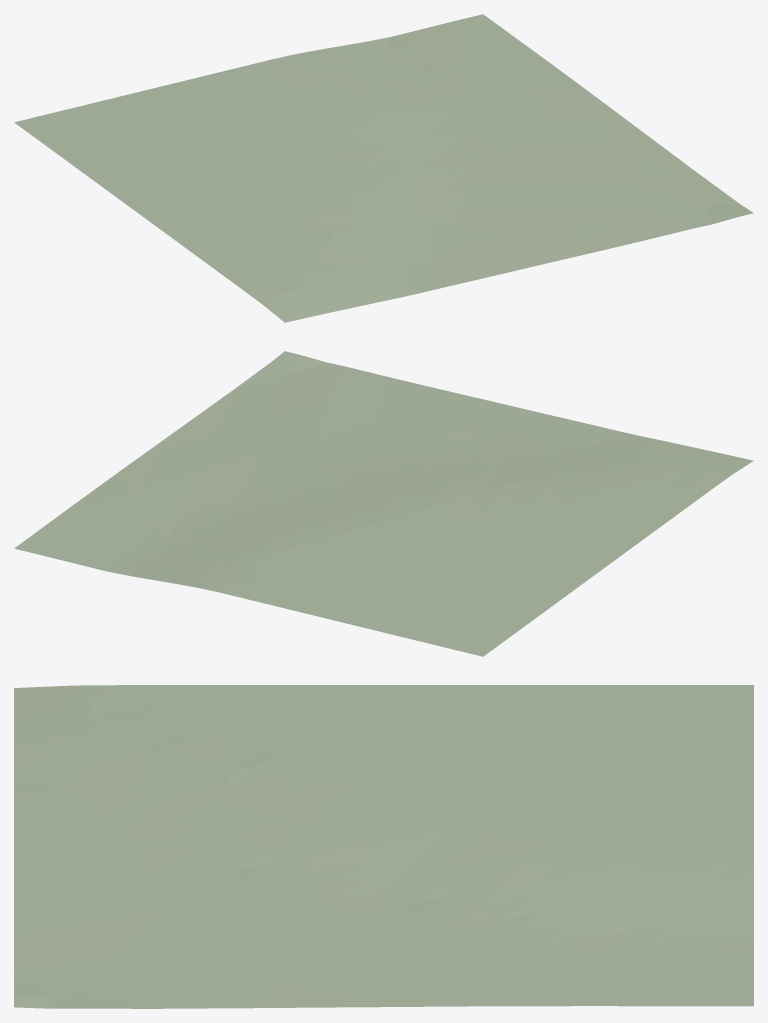
Rendered from SM_MPRR_Terrain_1_-1.fbx.
3 renders of one model, top to bottom at view 1: azimuth 30°, elevation 25°; view 2: azimuth 150°, elevation 25°; view 3: azimuth 270°, elevation 25°, orthographic. The views are drawn at different scales.
Visible parts, largest first — view 1: SM_MPRR_Terrain_1_-1; view 2: SM_MPRR_Terrain_1_-1; view 3: SM_MPRR_Terrain_1_-1.
Boxes of the visible parts, x1,y1,x2,y2 form: SM_MPRR_Terrain_1_-1: (14,14,753,322); SM_MPRR_Terrain_1_-1: (14,351,753,656); SM_MPRR_Terrain_1_-1: (14,685,753,1008).
Bounding box in the file's own units: 15000 × 15000 × 256.
